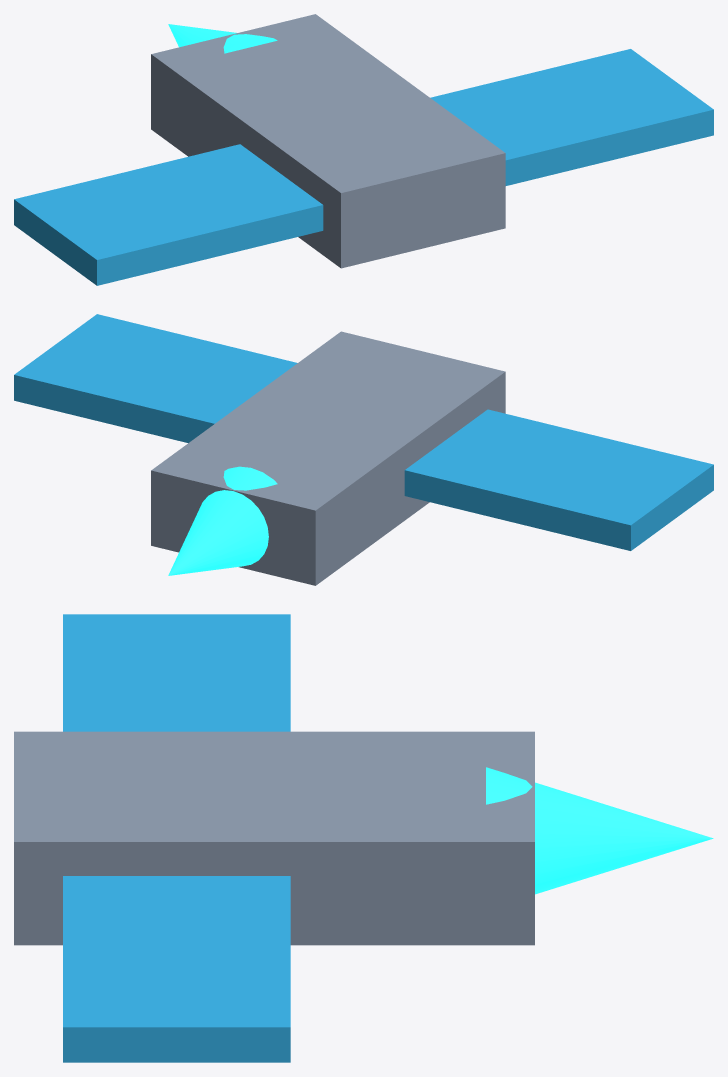
Rendered from patrulha-nave-provisoria.glb.
The picture shows the model from 3 angles, top to bottom: view 1: azimuth 30°, elevation 25°; view 2: azimuth 150°, elevation 25°; view 3: azimuth 270°, elevation 25°; orthographic projection. The views are drawn at different scales.
Parts seen in each view (by area): view 1: corpo, asaEsquerda, asaDireita, bico; view 2: corpo, asaEsquerda, asaDireita, bico; view 3: corpo, asaDireita, asaEsquerda, bico.
Part boxes in pixels (x1,y1,x2,y2): corpo: [151, 14, 505, 268]; asaEsquerda: [14, 144, 323, 285]; asaDireita: [430, 49, 713, 185]; bico: [168, 24, 277, 53]; corpo: [151, 331, 505, 585]; asaEsquerda: [404, 409, 713, 550]; asaDireita: [14, 314, 297, 442]; bico: [168, 466, 277, 575]; corpo: [14, 731, 534, 945]; asaDireita: [63, 876, 290, 1062]; asaEsquerda: [63, 614, 290, 731]; bico: [486, 767, 713, 894].
Size of the model in its own units: 3 by 0.44 by 2.15.
